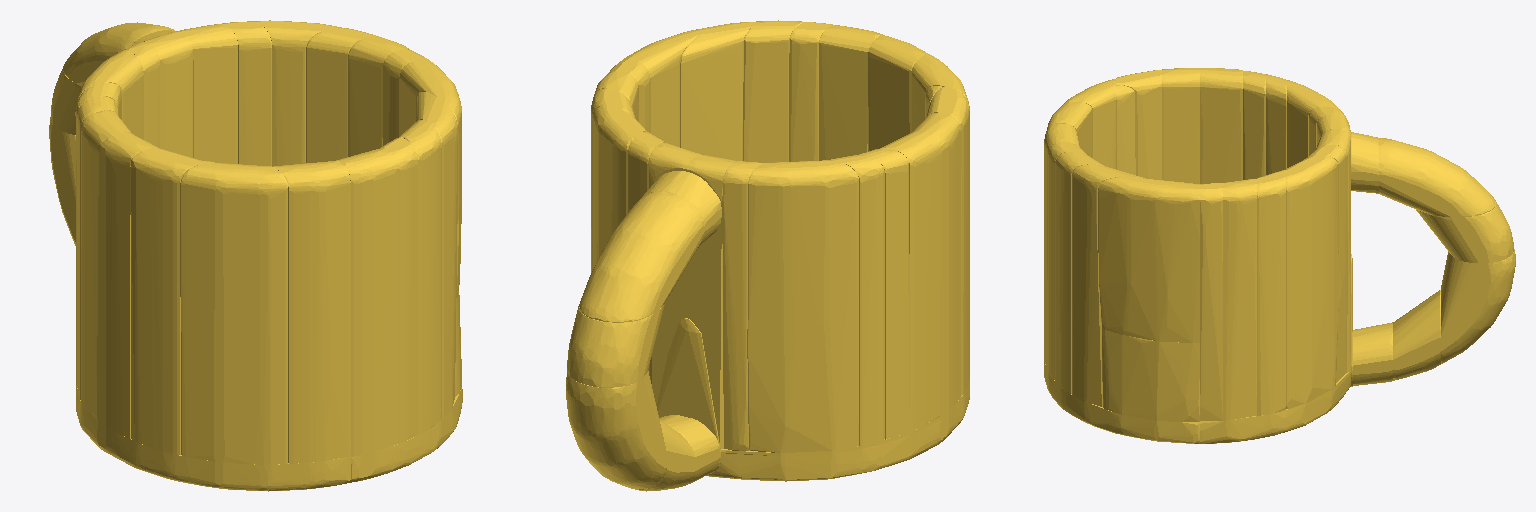
The robot description file, URDF, robot "1049.urdf":
<?xml version="1.0" ?>
<robot name="1049.urdf">
	<link name="baseLink">
		<inertial>
			<origin rpy="0 0 0" xyz="0 0 0"/>
				<mass value="0.1"/>
				<inertia ixx="6e-5" ixy="0" ixz="0" iyy="6e-5" iyz="0" izz="6e-5"/>
		</inertial>
		<visual>
			<origin rpy="0 0 0" xyz="0 0 0"/>
			<geometry>
				<mesh filename="11_decom_wt.obj" scale="1.04 1.04 0.82"/>
			</geometry>
			<material name="yellow">
				<color rgba="0.98 0.84 0.35 1"/>
			</material>
		</visual>
		<collision>
			<origin rpy="0 0 0" xyz="0 0 0"/>
			<geometry>
				<mesh filename="11_decom_wt.obj" scale="1.04 1.04 0.82"/>
			</geometry>
		</collision>
	</link>
</robot>

--- Render facts (derived) ---
The picture shows the robot from 3 angles, left to right: view 1: azimuth 30°, elevation 25°; view 2: azimuth 150°, elevation 25°; view 3: azimuth 270°, elevation 25°; orthographic projection.
Model 1049.urdf with 1 links and 0 joints (none), rooted at baseLink, posed all joints at 0.
Visible links, largest first — view 1: baseLink; view 2: baseLink; view 3: baseLink.
Link boxes in pixels (x1,y1,x2,y2): baseLink: (49,20,462,491); baseLink: (566,20,969,491); baseLink: (1044,68,1515,443).
Size in the robot's own frame: 0.1019 by 0.1554 by 0.0925 metres.
Meshes: 1 distinct files referenced, 1 mesh visuals loaded (1 OBJ).